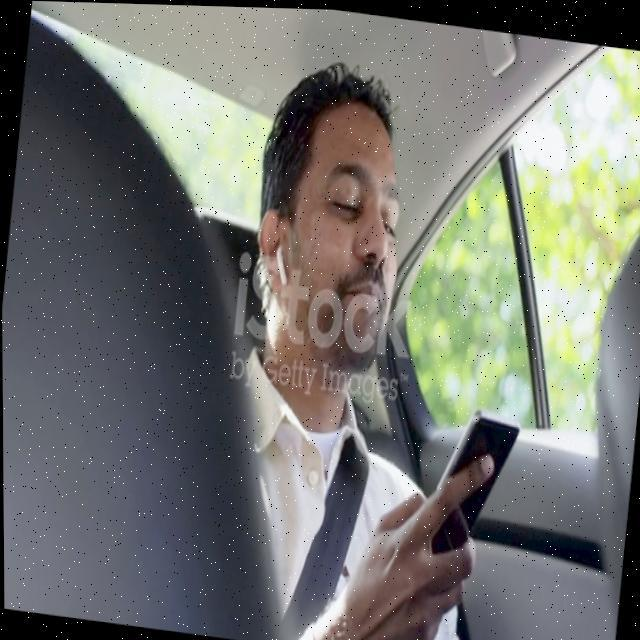PhoneCall: (412, 394, 522, 554)
